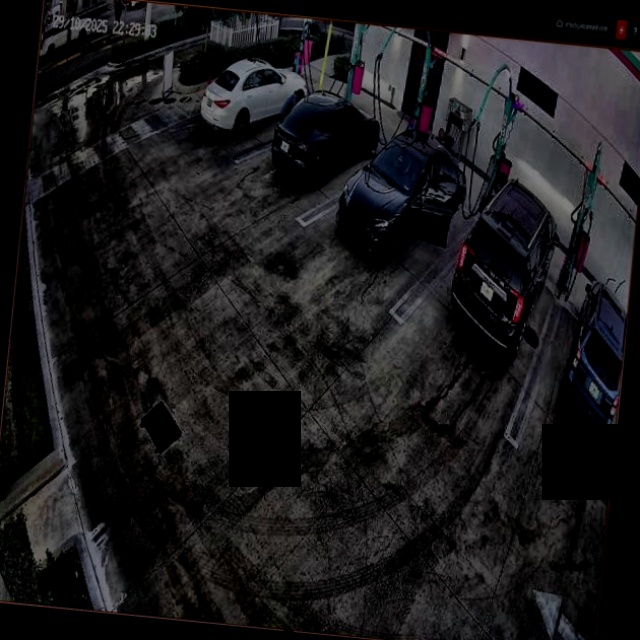Car: (445, 176, 564, 364), (333, 125, 471, 267), (269, 87, 384, 191)
